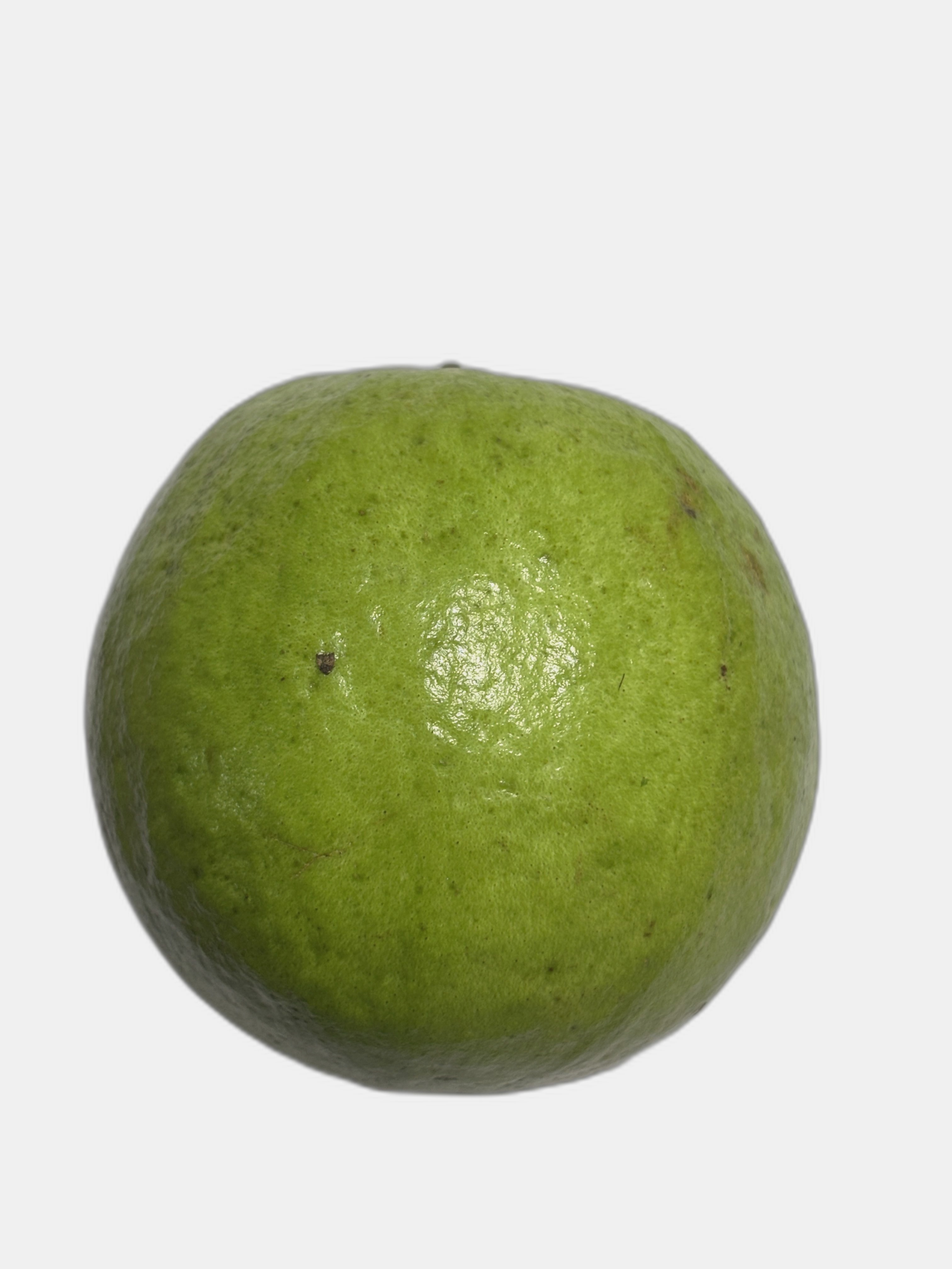guava: (78, 194, 762, 977)
